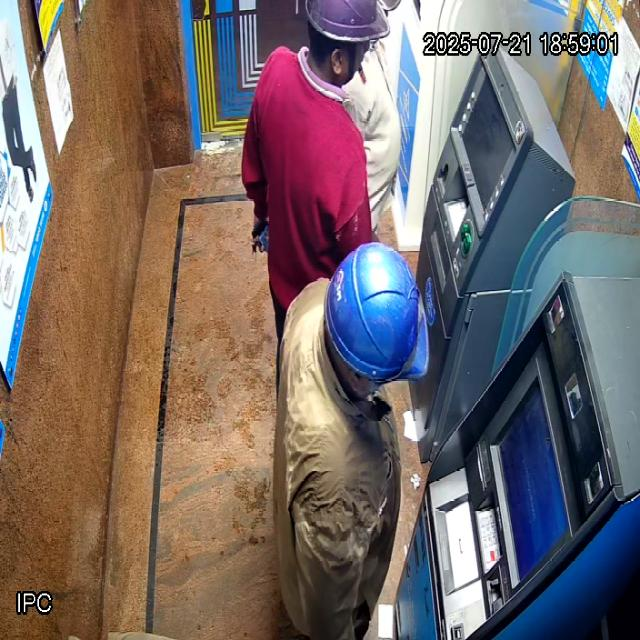helmet: (324, 243, 431, 401), (306, 0, 391, 88)
